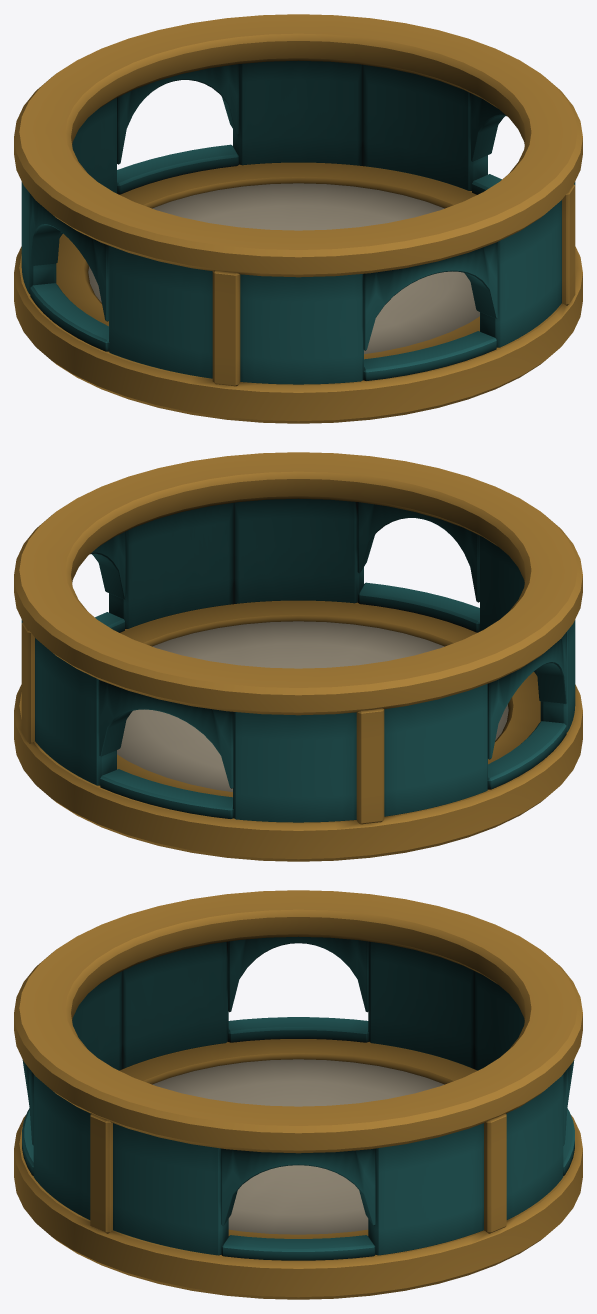
The model's file is windmill_base.glb.
3 views of the same model, one above another, from view 1: azimuth 30°, elevation 25°; view 2: azimuth 150°, elevation 25°; view 3: azimuth 270°, elevation 25° (orthographic).
Parts seen in each view (by area): view 1: WindmillBase_Panel, WindmillBase_RingTop, WindmillBase_RingBottom; view 2: WindmillBase_Panel, WindmillBase_RingTop, WindmillBase_RingBottom; view 3: WindmillBase_Panel, WindmillBase_RingTop, WindmillBase_RingBottom.
Part boxes in pixels (<box>): WindmillBase_Panel: <box>21,60,575,386</box>; WindmillBase_RingTop: <box>14,14,582,277</box>; WindmillBase_RingBottom: <box>14,162,582,423</box>; WindmillBase_Panel: <box>21,498,575,824</box>; WindmillBase_RingTop: <box>14,452,582,715</box>; WindmillBase_RingBottom: <box>14,600,582,861</box>; WindmillBase_Panel: <box>22,936,574,1260</box>; WindmillBase_RingTop: <box>14,890,582,1153</box>; WindmillBase_RingBottom: <box>14,1039,582,1299</box>.
Size of the model in its own units: 0.095 by 0.035 by 0.095.
